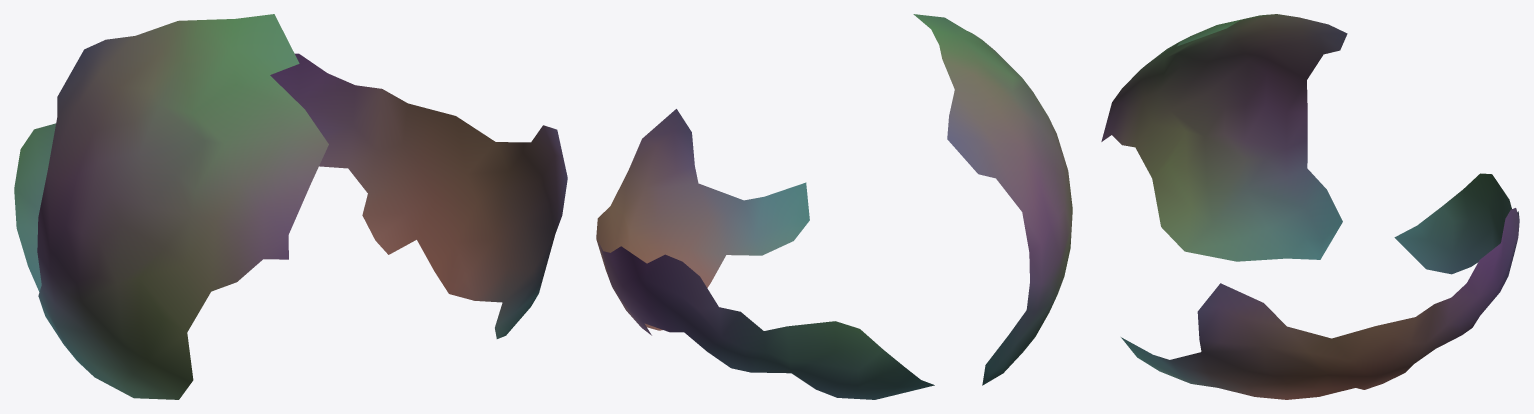
The model's file is space-nebulae-nebula_v36.glb.
3 renders of one model, left to right at view 1: azimuth 30°, elevation 25°; view 2: azimuth 150°, elevation 25°; view 3: azimuth 270°, elevation 25°, orthographic. The views are drawn at different scales.
Visible parts, largest first — view 1: Nebula_v36; view 2: Nebula_v36; view 3: Nebula_v36.
Boxes of the visible parts, x1,y1,x2,y2 form: Nebula_v36: (14,14,567,399); Nebula_v36: (596,14,1072,399); Nebula_v36: (1101,14,1519,399).
Size of the model in its own units: 0.5 by 0.3567 by 0.469.
